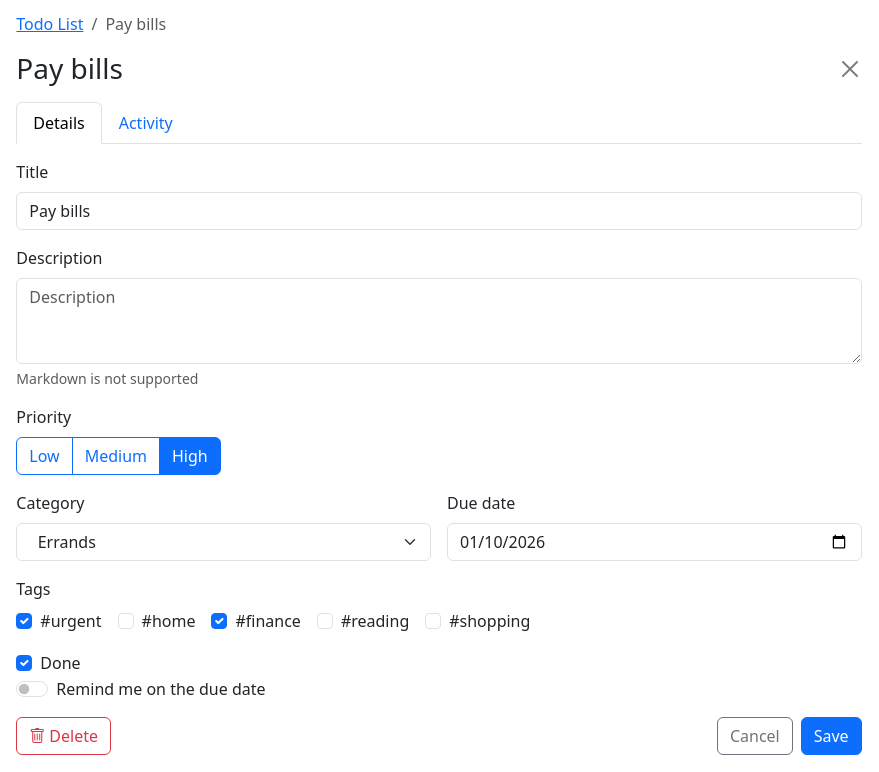
with Todo › should switch to activity tab
The width and height of the screenshot is (879, 772).
Click the tab "Activity".
click(146, 123)  # box [102, 102, 190, 144]
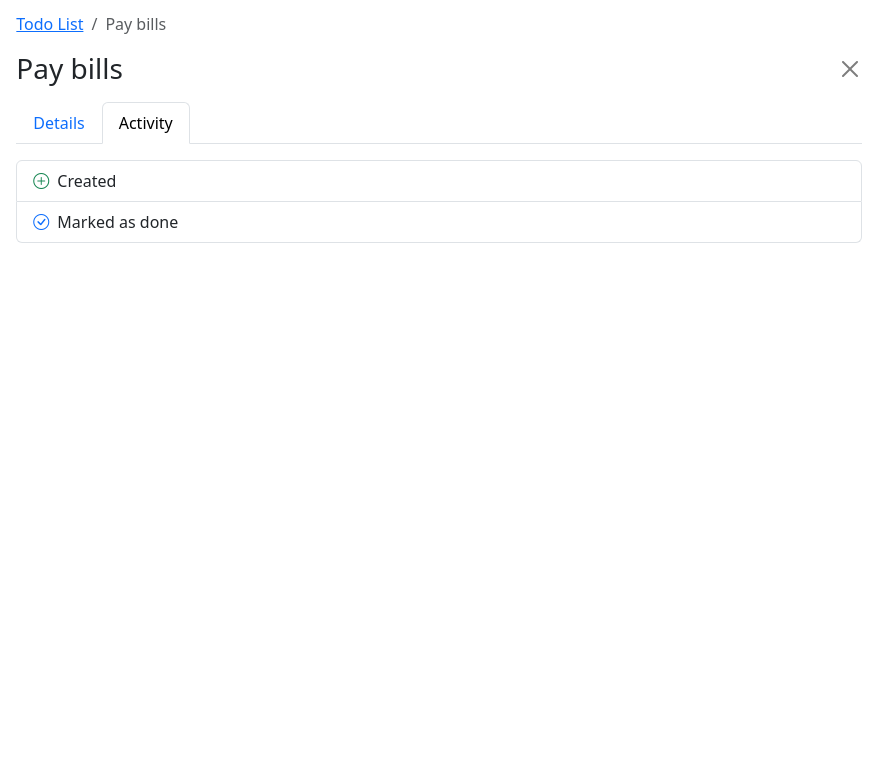
Now the list item "Marked as done" is shown, box [16, 202, 862, 243]
Now the label "Title" is gone
